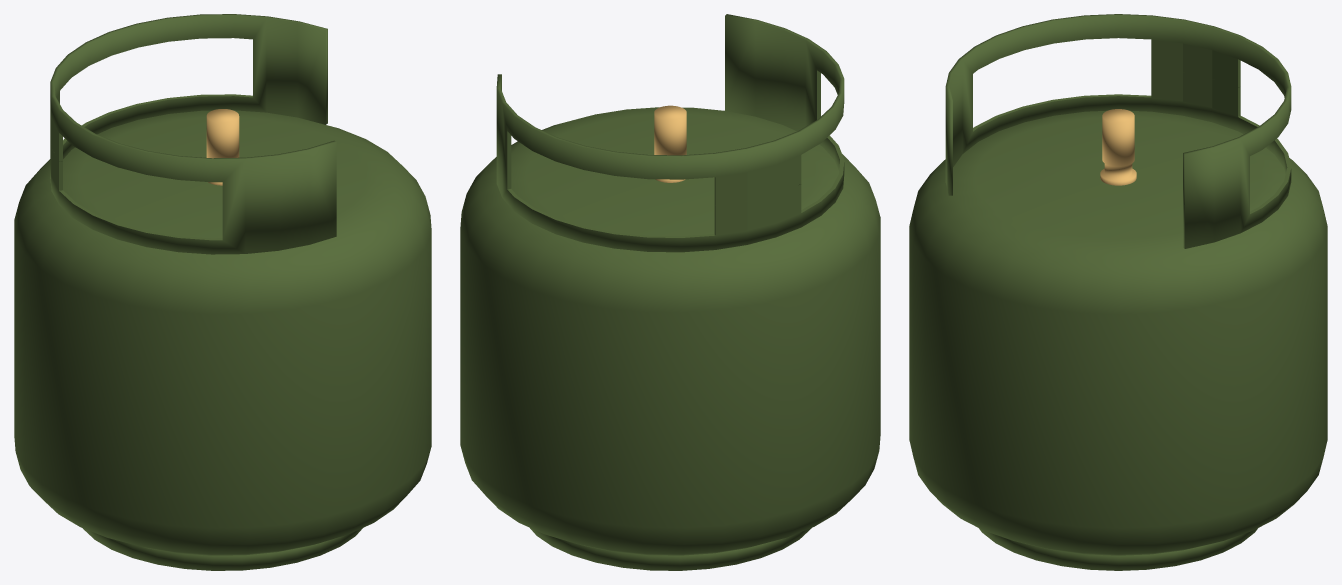
File: GasContainer.fbx
3 views of the same model, side by side, from view 1: azimuth 30°, elevation 25°; view 2: azimuth 150°, elevation 25°; view 3: azimuth 270°, elevation 25° (orthographic).
Visible parts, largest first — view 1: 14. gas.002; view 2: 14. gas.002; view 3: 14. gas.002.
Part boxes in pixels (x1,y1,x2,y2): 14. gas.002: (14,14,431,570); 14. gas.002: (460,14,880,570); 14. gas.002: (909,14,1327,570).
Size of the model in its own units: 36.58 by 40.66 by 36.58.
